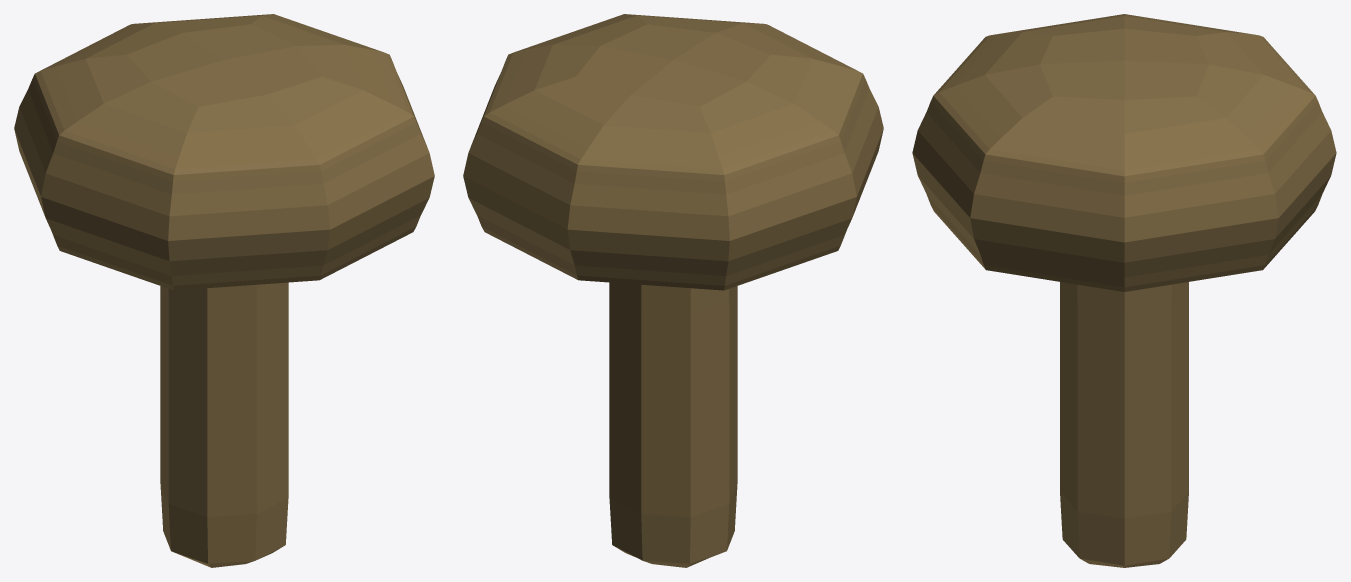
Rendered from bolt.glb.
3 views of the same model, side by side, from view 1: azimuth 30°, elevation 25°; view 2: azimuth 150°, elevation 25°; view 3: azimuth 270°, elevation 25° (orthographic).
Parts seen in each view (by area): view 1: Cube; view 2: Cube; view 3: Cube.
Part boxes in pixels (x1,y1,x2,y2): Cube: [14, 14, 434, 567]; Cube: [463, 14, 883, 567]; Cube: [912, 14, 1336, 567].
Bounding box in the file's own units: 0.3286 × 0.4195 × 0.3286.
